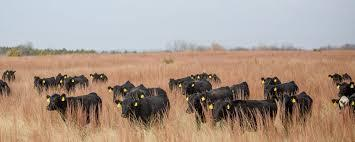cow: (209, 99, 279, 133), (186, 87, 234, 130), (46, 93, 102, 128), (114, 96, 167, 132), (284, 92, 314, 121), (108, 81, 137, 104), (266, 80, 299, 96), (178, 81, 213, 95), (61, 76, 89, 93), (33, 76, 57, 94), (337, 82, 354, 98), (89, 72, 107, 84), (2, 70, 17, 81), (0, 80, 11, 95)
